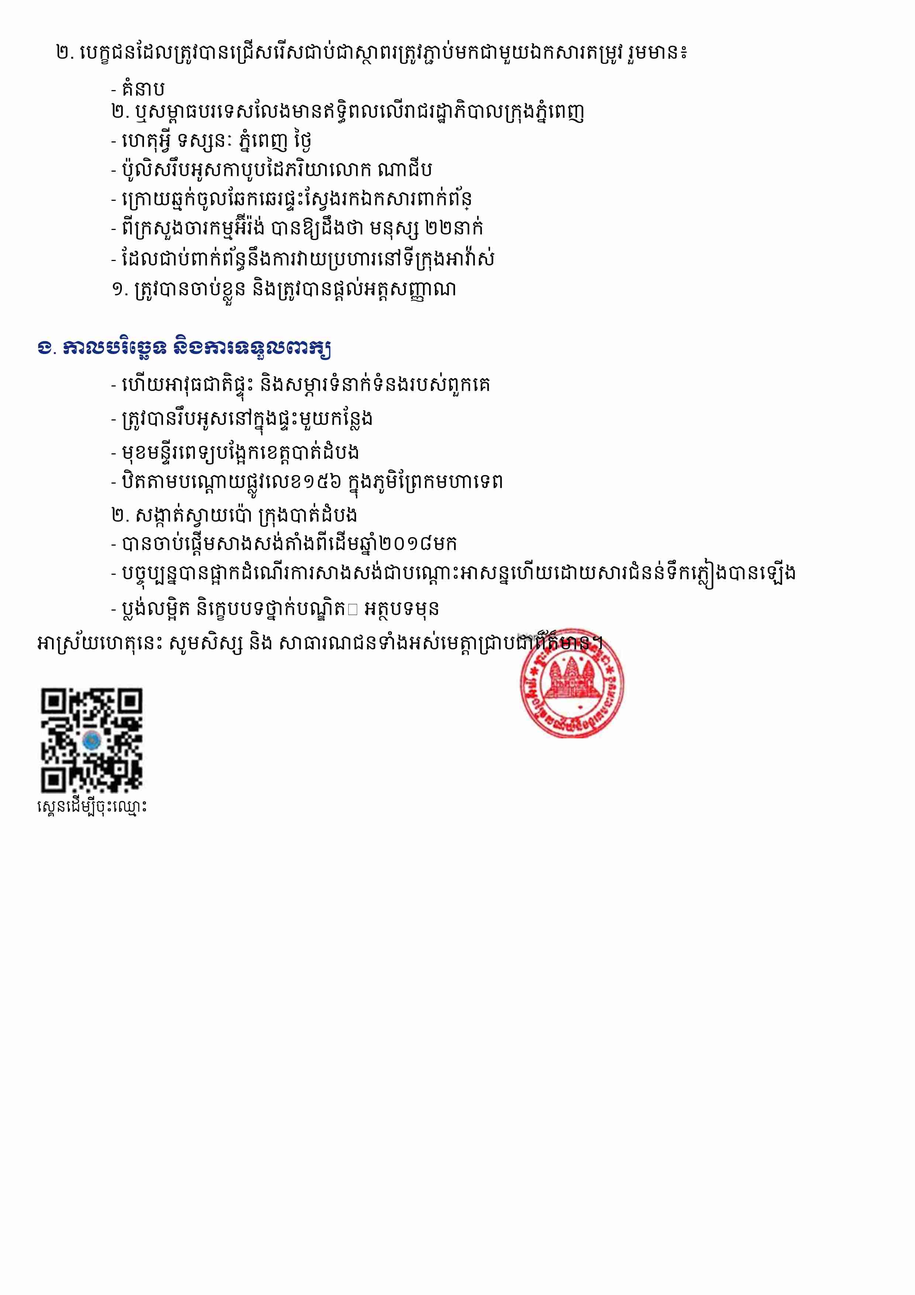decorative: (37, 683, 148, 794), (517, 628, 627, 738)
text: (111, 558, 797, 590), (55, 39, 689, 65), (37, 630, 604, 655), (111, 98, 586, 124), (111, 469, 504, 499), (111, 371, 491, 402), (111, 276, 457, 306), (111, 213, 484, 240), (111, 245, 496, 271), (111, 186, 473, 211), (111, 530, 458, 556), (111, 596, 440, 621), (111, 405, 374, 436), (111, 157, 433, 182), (37, 334, 331, 360), (111, 439, 360, 465), (111, 503, 358, 528), (111, 127, 313, 153), (37, 794, 148, 817), (111, 77, 166, 96)
